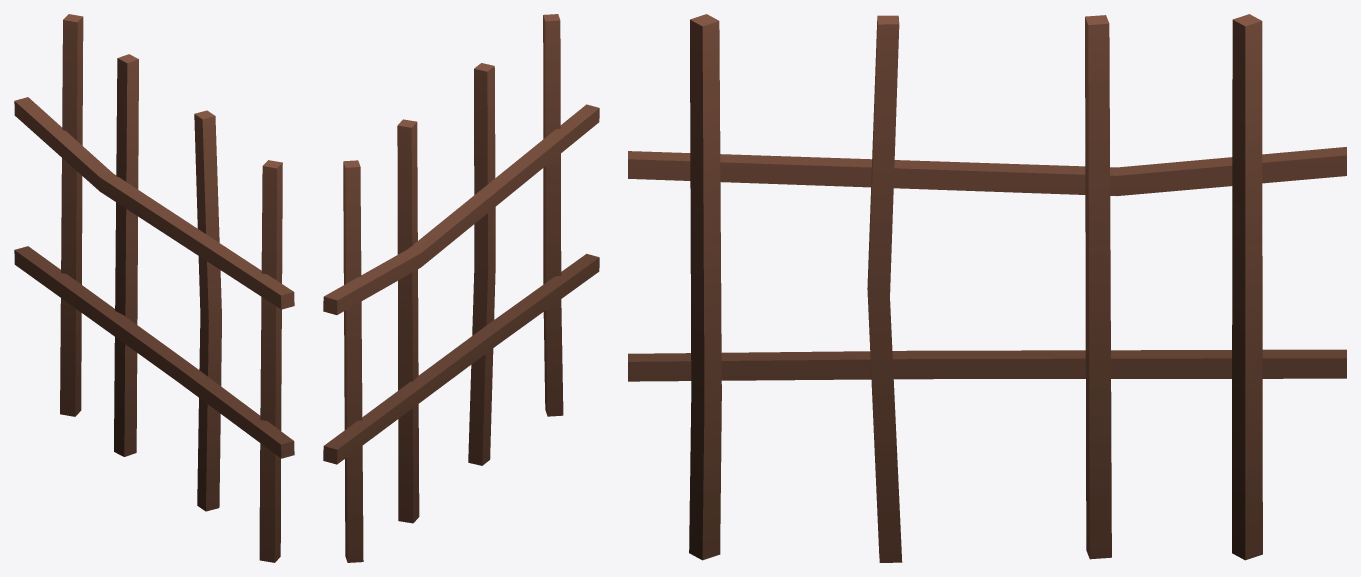
Rendered from RreinforcingBars_A_3.obj.
The picture shows the model from 3 angles, left to right: view 1: azimuth 30°, elevation 25°; view 2: azimuth 150°, elevation 25°; view 3: azimuth 270°, elevation 25°; orthographic projection. The views are drawn at different scales.
Parts seen in each view (by area): view 1: RreinforcingBars_A_3; view 2: RreinforcingBars_A_3; view 3: RreinforcingBars_A_3.
Part boxes in pixels (x1,y1,x2,y2): RreinforcingBars_A_3: (14,14,294,562); RreinforcingBars_A_3: (323,14,599,562); RreinforcingBars_A_3: (628,14,1346,562).
Bounding box in the file's own units: 0.0531 × 0.598 × 0.7276.
